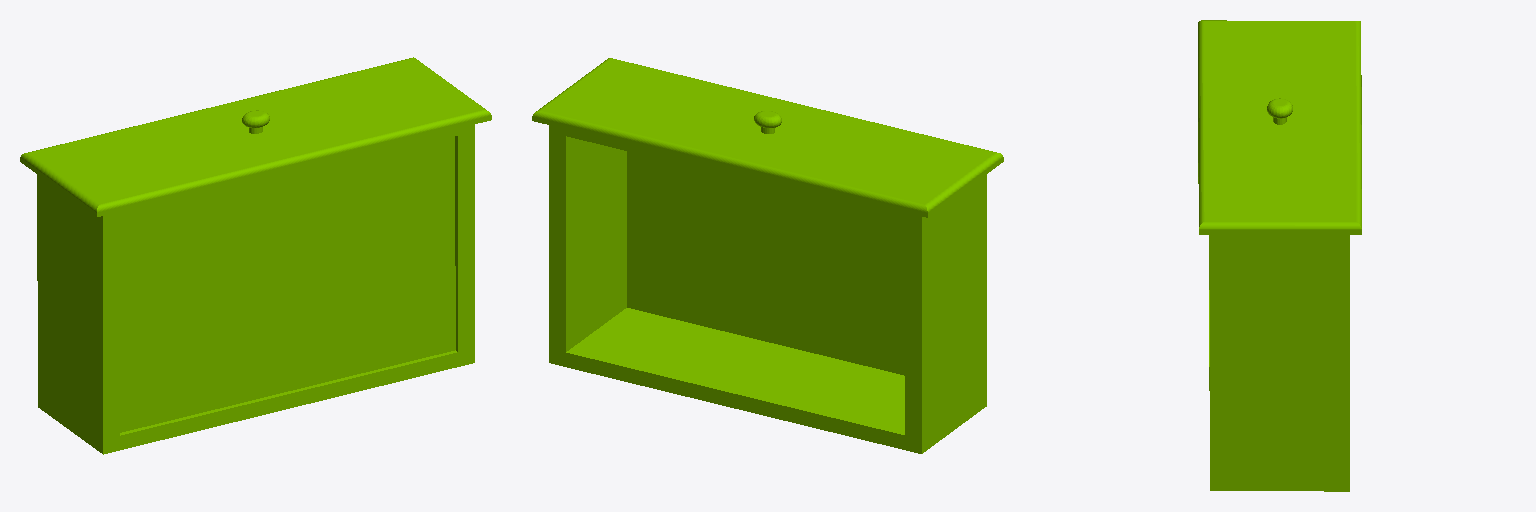
URDF robot description (cube.urdf):
<?xml version="0.0" ?>
<robot name="cube.urdf">
  <link name="top">
    <contact>
      <lateral_friction value="2.0"/>
      <inertia_scaling value="3.0"/>
    </contact>
    <inertial>
      <origin rpy="0 3.14 3.14" xyz="0 0 0"/>
       <mass value=".05"/>
       <inertia ixx="1" ixy="0" ixz="0" iyy="1" iyz="0" izz="1"/>
    </inertial>
    <visual>
      <origin rpy="0 3.14 3.14" xyz="0 0 0"/>
      <geometry>
        <mesh filename="drawer_new.obj" scale="0.6 0.5 0.5"/>
      </geometry>
       <material name="white">
        <color rgba="0.54 0.8 0 1"/>
      </material>
    </visual>
    <collision>
      <origin rpy="0 3.14 3.14" xyz="0 0 0"/>
      <geometry>
        <mesh filename="drawer_new.obj" scale="0.6 0.5 0.5"/>
      </geometry>
    </collision>
  </link>
  <joint name="joint_baseLink_childA" type="prismatic">
    <parent link="baseLink"/>
    <child link="top"/>
    <origin rpy="3.14 0 0" xyz="0.0 0 0.0"/>
    <axis xyz="0 0 -1"/>
    <limit lower="0.05" upper="0.3" />
  </joint>
  <link name="baseLink">
    <contact>
      <lateral_friction value="2.0"/>
      <inertia_scaling value="3.0"/>
    </contact>
    <inertial>
      <origin rpy="0 0 0" xyz="0 0 0"/>
       <mass value=".05"/>
       <inertia ixx="1" ixy="0" ixz="0" iyy="1" iyz="0" izz="1"/>
    </inertial>
    <visual>
      <origin rpy="3.14 3.14 0" xyz="0 0 -0.1"/>
      <geometry>
        <mesh filename="model_new.obj" scale="0.7 0.65 0.55"/>
      </geometry>
       <material name="white">
        <color rgba="0.54 0.8 0 1"/>
      </material>
    </visual>
    <collision>
      <origin rpy="3.14 3.14 0" xyz="0 0 -0.1"/>
      <geometry>
        <mesh filename="model_new.obj" scale="0.7 0.65 0.55"/>
      </geometry>
    </collision>
  </link>
</robot>

--- Render facts (derived) ---
3 views of the same robot in one strip: view 1: azimuth 30°, elevation 25°; view 2: azimuth 150°, elevation 25°; view 3: azimuth 270°, elevation 25° (orthographic).
Robot: cube.urdf — 2 links, 1 joints (1 prismatic); root link baseLink; default pose: all joints at 0 but 1 set to mid-range because 0 is outside their limits (joint_baseLink_childA = 0.175).
Links seen in each view (by area): view 1: top; view 2: top; view 3: top.
Boxes of the visible links, left/top/right/bottom form: top: left=20, top=57, right=491, bottom=454; top: left=532, top=58, right=1003, bottom=453; top: left=1198, top=20, right=1361, bottom=491.
Bounding box of the posed robot: 0.2668 × 0.0893 × 0.1752 m (x, y, z).
1 mesh visuals loaded from 2 distinct referenced files (1 OBJ); not drawn: 1 (reference not matched to a file when rendering).